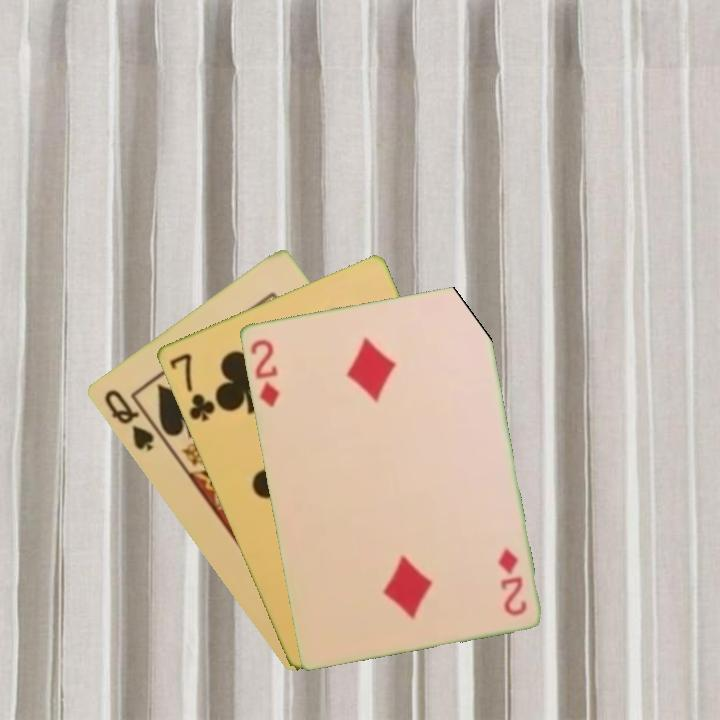2d: (246, 335, 282, 410), (494, 544, 529, 619)
7c: (165, 349, 218, 425)
Qs: (100, 385, 157, 455)
